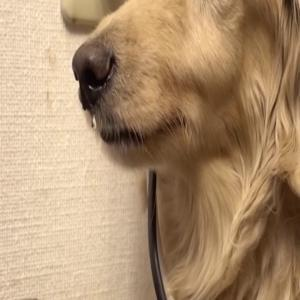nasal_discharge: (78, 83, 105, 133)
